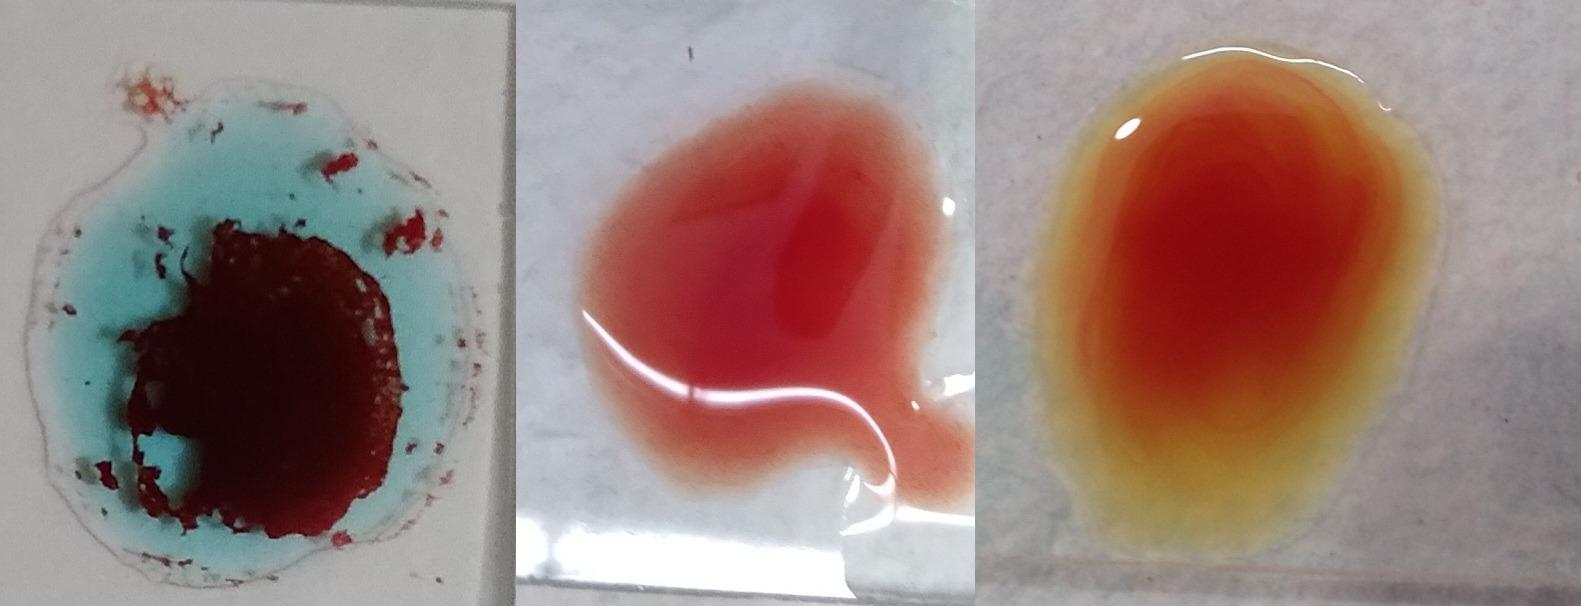A: (50, 82, 449, 593)
